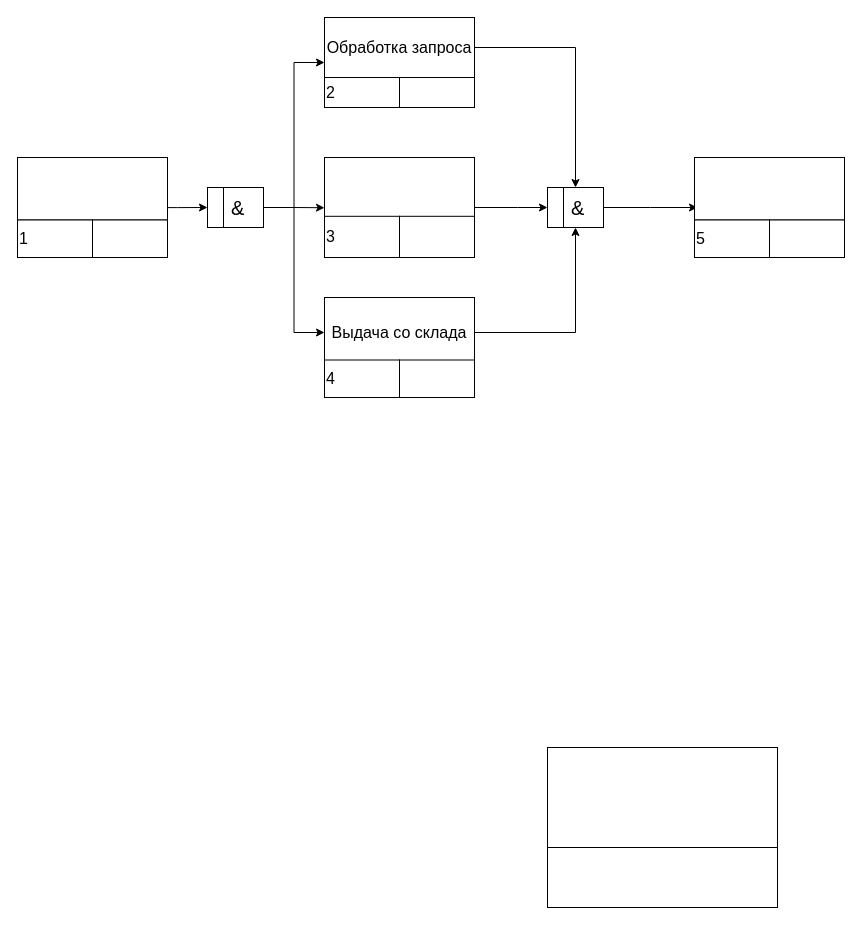
Some shapes in this 862 by 925 pixel diagram are drawn without their labels. Each missing label, with the centre of its shape:
"Заказ" belongs at (x=92, y=188).
"Отправка запроса на склад" belongs at (x=399, y=190).
"Проданные книги" belongs at (x=769, y=188).
